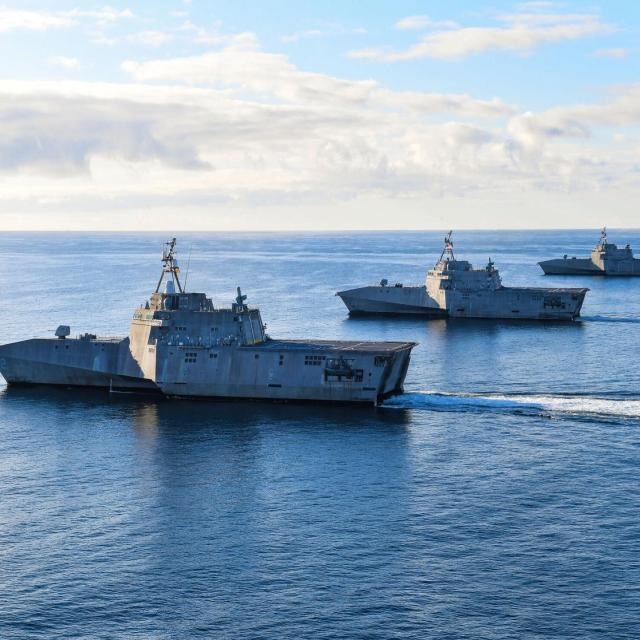ship2: (0, 243, 417, 409), (336, 230, 589, 325), (538, 224, 639, 278)
